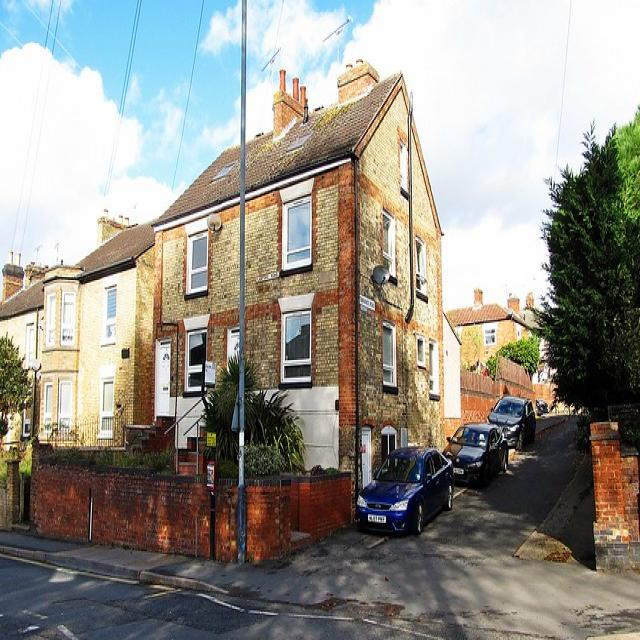Normal_building: (155, 60, 446, 555)
